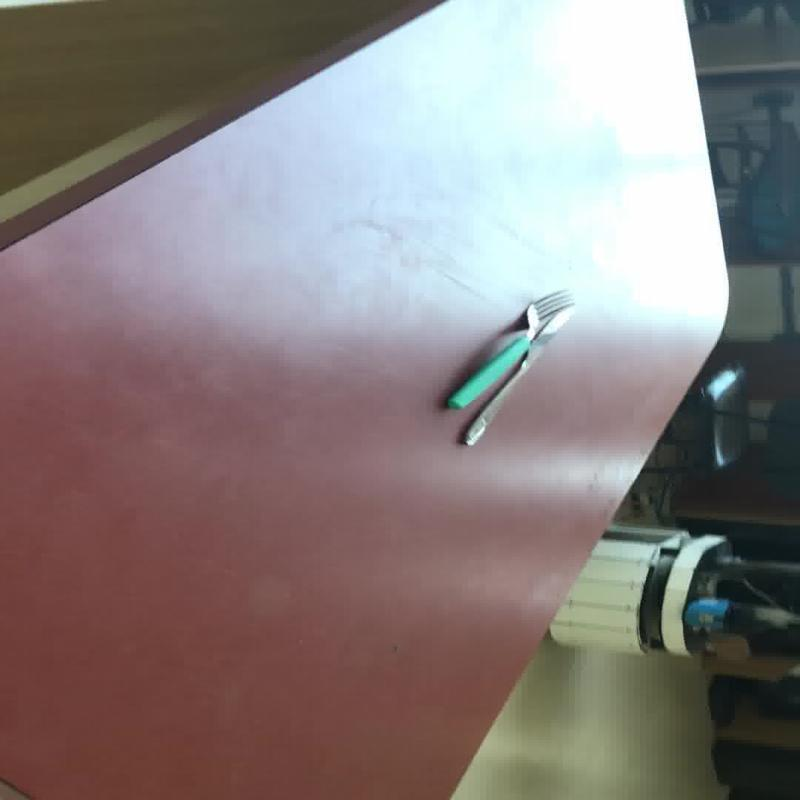fork: (458, 288, 575, 446), (443, 288, 573, 410)
knife: (444, 288, 575, 446)
